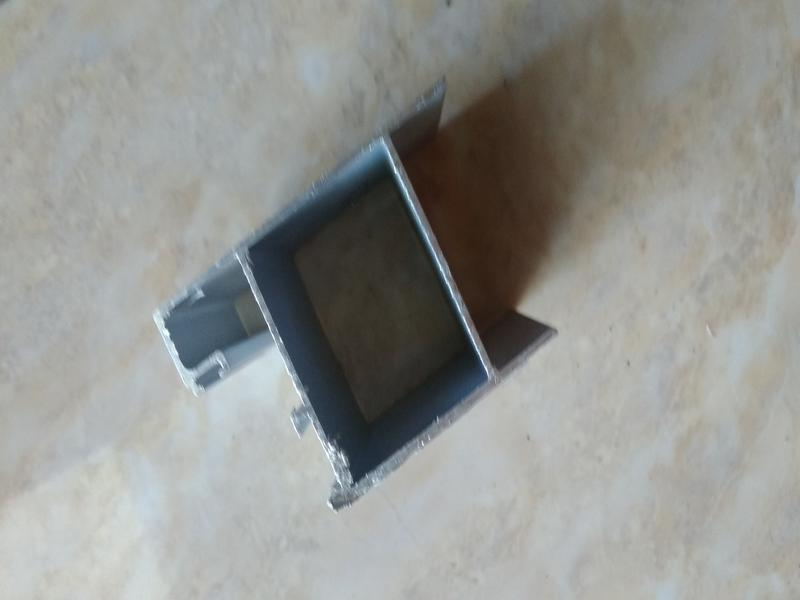Aluminium_2: (122, 53, 607, 527)
